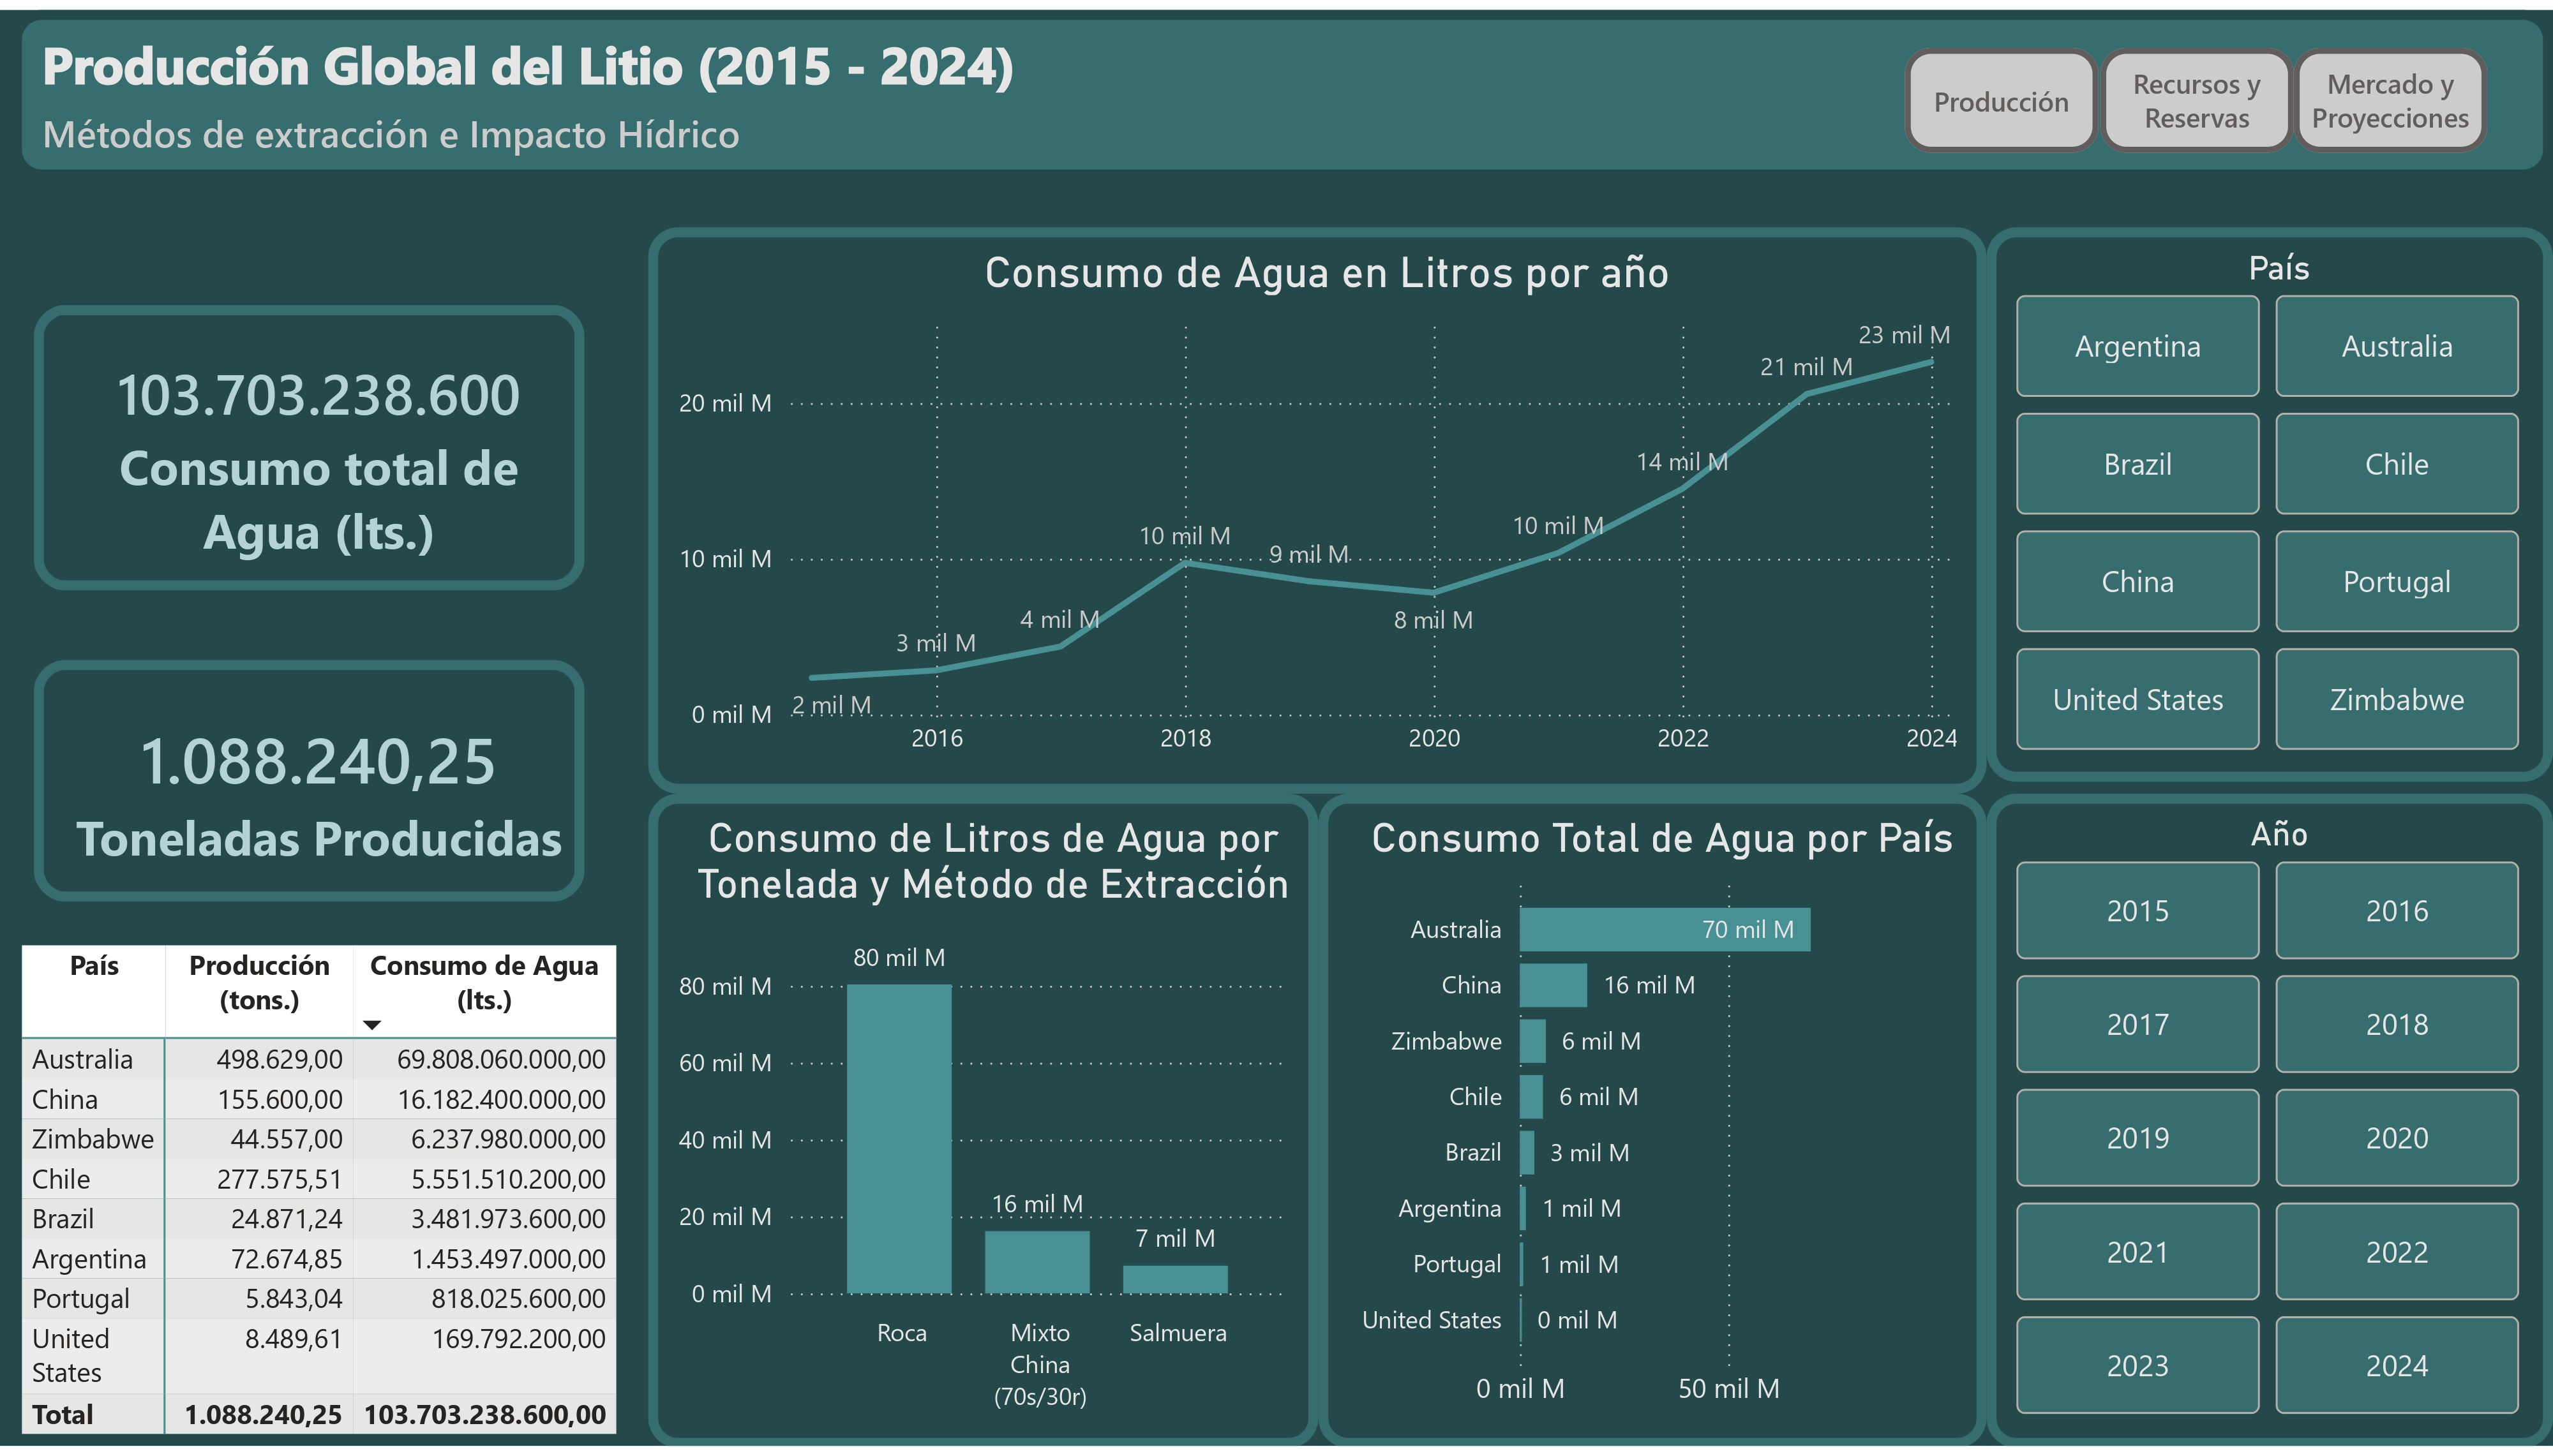

The page's visual inventory and layout, read from the dashboard file:
{"tool":"powerbi","page":{"name":"Métodos de Extracción e Impacto Hídrico","canvas":[1280,720],"ordinal":2},"visuals":[{"type":"pivotTable","fields":{"Rows":["fact_produccion.nombre_pais"],"Values":["Sum(fact_produccion.toneladas_producidas)","fact_produccion.Consumo_total_agua_litros"]},"box":[6.2,463.8,310,256.2],"z":0},{"type":"textbox","title":"Producción Global del Litio (2015 - 2024)","box":[5.7,0,1274.3,84.6],"z":1000},{"type":"advancedSlicerVisual","fields":{"Values":["dim_pais_detalles.nombre_pais"]},"box":[996.2,108.8,283.8,277.5],"z":2000},{"type":"cardVisual","fields":{"Data":["fact_produccion.Consumo_total_agua_litros"]},"box":[0,131.2,310,177.5],"z":3000},{"type":"cardVisual","fields":{"Data":["Sum(fact_produccion.toneladas_producidas)"]},"box":[0,308.8,310,155],"z":4000},{"type":"clusteredBarChart","title":"Consumo Total de Agua por País","fields":{"Category":["dim_pais_detalles.nombre_pais"],"Y":["fact_produccion.Consumo_total_agua_litros"]},"box":[661.2,392.5,335,327.5],"z":5000},{"type":"advancedSlicerVisual","title":"Año","fields":{"Values":["fact_produccion.anio"]},"box":[996.2,392.5,283.8,327.5],"z":6000},{"type":"lineChart","title":"Consumo de Agua en Litros por año","fields":{"Category":["fact_produccion.anio"],"Y":["fact_produccion.Consumo_total_agua_litros"]},"box":[325,108.8,671.2,283.8],"z":7000},{"type":"clusteredColumnChart","title":"Consumo de Litros de  Agua por Tonelada y Método de Extracción","fields":{"Category":["dim_metodo_extraccion.nombre_metodo"],"Y":["fact_produccion.Consumo_total_agua_litros"]},"box":[325,392.5,336.2,327.5],"z":8000},{"type":"actionButton","title":"Recursos y Reservas","box":[1052.6,19.4,97.1,52.6],"z":8001},{"type":"actionButton","title":"Recursos y Reservas","box":[955.4,19.4,97.1,52.6],"z":8002},{"type":"actionButton","title":"Recursos y Reservas","box":[1149.7,19.4,97.1,52.6],"z":8003}]}

Visuals, with their boxes in screenshot pixels (x1, y1, x2, y2), scaled from the page's 1280x720 canvas onto the 2553x1456 screenshot:
pivotTable - fact_produccion.nombre_pais x Sum(fact_produccion.toneladas_producidas): {"left": 12, "top": 938, "right": 631, "bottom": 1455}
"Producción Global del Litio (2015 - 2024)" textbox: {"left": 11, "top": 0, "right": 2552, "bottom": 171}
advancedSlicerVisual - dim_pais_detalles.nombre_pais: {"left": 1987, "top": 220, "right": 2552, "bottom": 781}
cardVisual - fact_produccion.Consumo_total_agua_litros: {"left": 0, "top": 265, "right": 618, "bottom": 624}
cardVisual - Sum(fact_produccion.toneladas_producidas): {"left": 0, "top": 625, "right": 618, "bottom": 938}
"Consumo Total de Agua por País" clusteredBarChart: {"left": 1319, "top": 794, "right": 1987, "bottom": 1455}
"Año" advancedSlicerVisual: {"left": 1987, "top": 794, "right": 2552, "bottom": 1455}
"Consumo de Agua en Litros por año" lineChart: {"left": 648, "top": 220, "right": 1987, "bottom": 794}
"Consumo de Litros de  Agua por Tonelada y Método de Extracción" clusteredColumnChart: {"left": 648, "top": 794, "right": 1319, "bottom": 1455}
"Recursos y Reservas" actionButton: {"left": 2099, "top": 39, "right": 2293, "bottom": 145}
"Recursos y Reservas" actionButton: {"left": 1906, "top": 39, "right": 2099, "bottom": 145}
"Recursos y Reservas" actionButton: {"left": 2293, "top": 39, "right": 2487, "bottom": 145}
